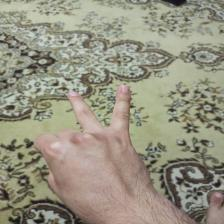five: (32, 84, 162, 221)
